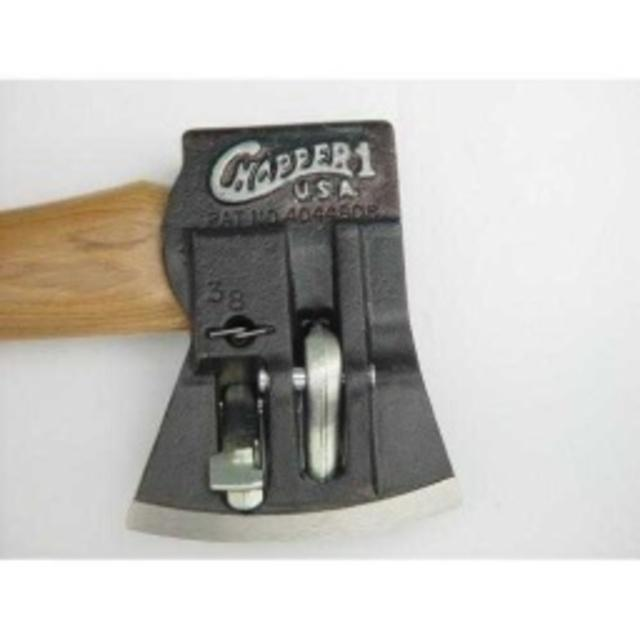ax: (0, 111, 472, 554)
